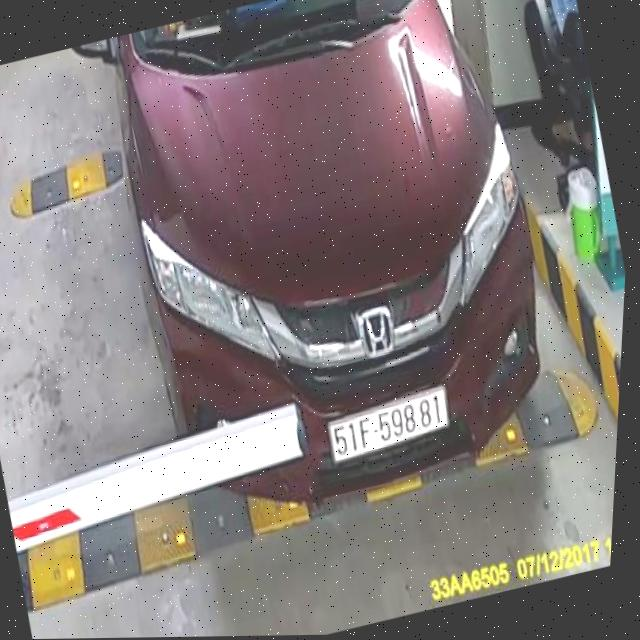car: (39, 0, 602, 556)
plate: (322, 385, 458, 464)
